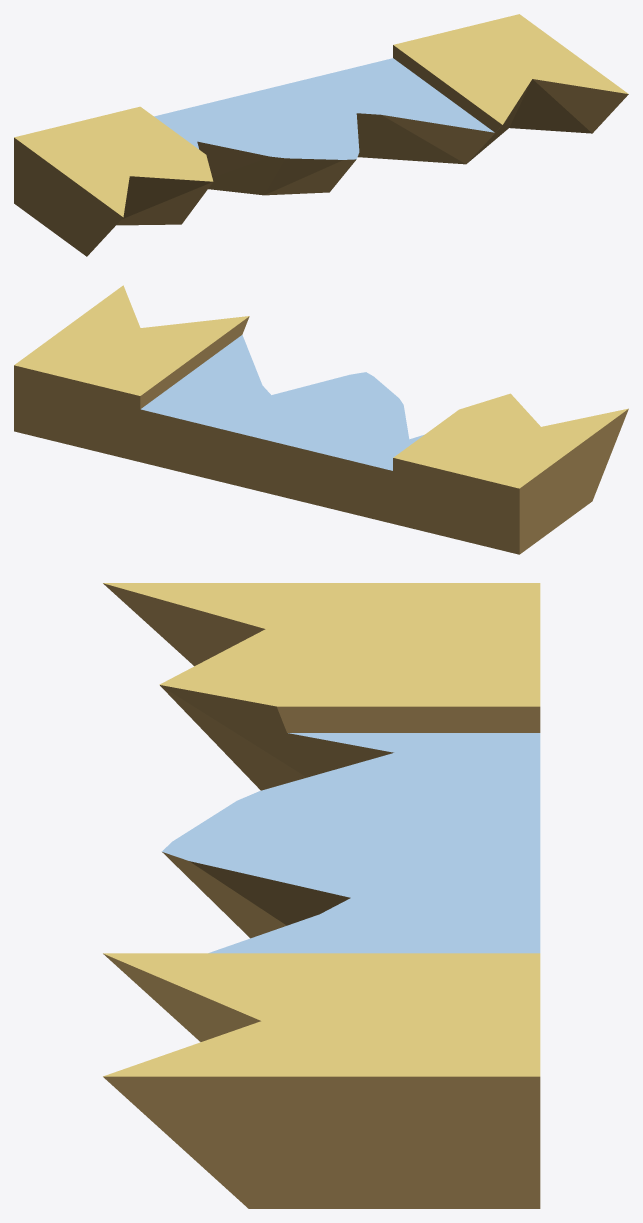
File: Terrain_Tile_Sand_Ledge_River_02.fbx
The picture shows the model from 3 angles, top to bottom: view 1: azimuth 30°, elevation 25°; view 2: azimuth 150°, elevation 25°; view 3: azimuth 270°, elevation 25°; orthographic projection. The views are drawn at different scales.
Visible parts, largest first — view 1: Terrain_Tile_Sand_Ledge_River_02; view 2: Terrain_Tile_Sand_Ledge_River_02; view 3: Terrain_Tile_Sand_Ledge_River_02.
Part boxes in pixels (x1=…): Terrain_Tile_Sand_Ledge_River_02: x1=14, y1=14, x2=628, y2=256; Terrain_Tile_Sand_Ledge_River_02: x1=14, y1=285, x2=628, y2=554; Terrain_Tile_Sand_Ledge_River_02: x1=103, y1=583, x2=540, y2=1208.
Size of the model in its own units: 126 by 15.75 by 47.24.
